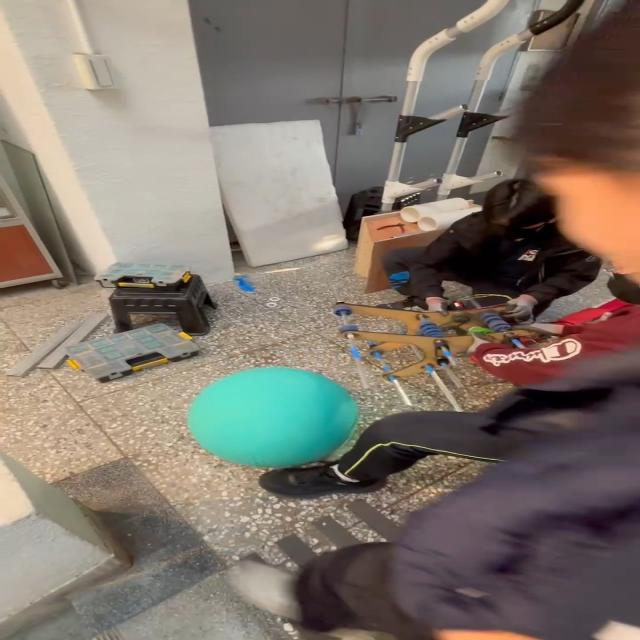ALGAE: (185, 366, 359, 468)
